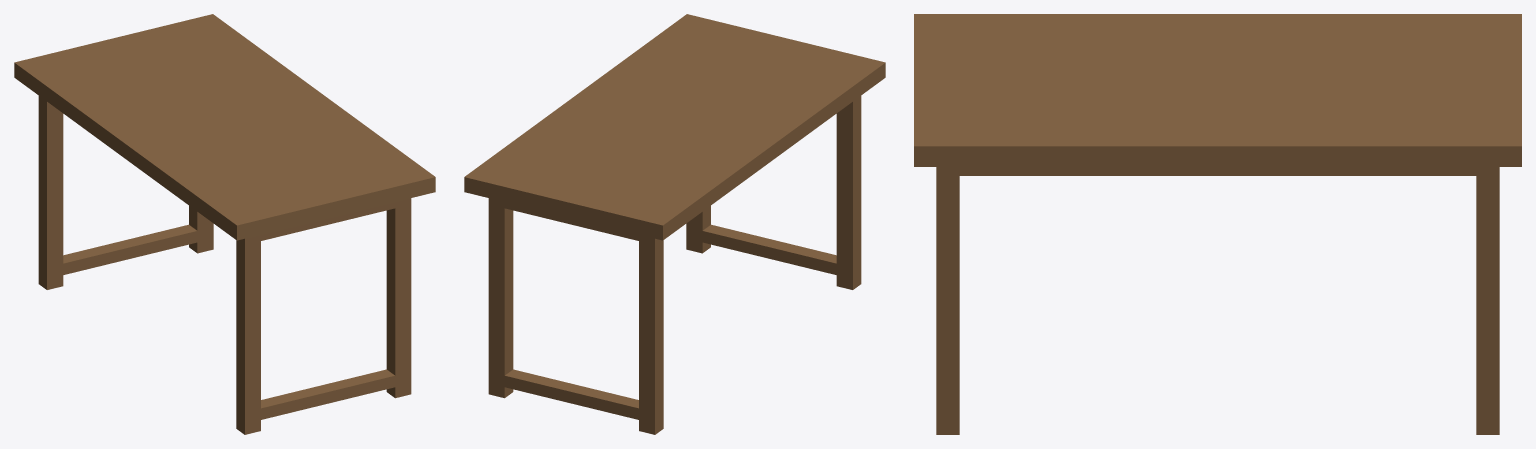
File: Table.fbx
The picture shows the model from 3 angles, left to right: view 1: azimuth 30°, elevation 25°; view 2: azimuth 150°, elevation 25°; view 3: azimuth 270°, elevation 25°; orthographic projection. The views are drawn at different scales.
Parts seen in each view (by area): view 1: Table; view 2: Table; view 3: Table.
Part boxes in pixels (x1,y1,x2,y2): Table: (14,14,435,434); Table: (464,14,885,434); Table: (914,14,1521,434).
Bounding box in the file's own units: 679 × 716 × 1317.
